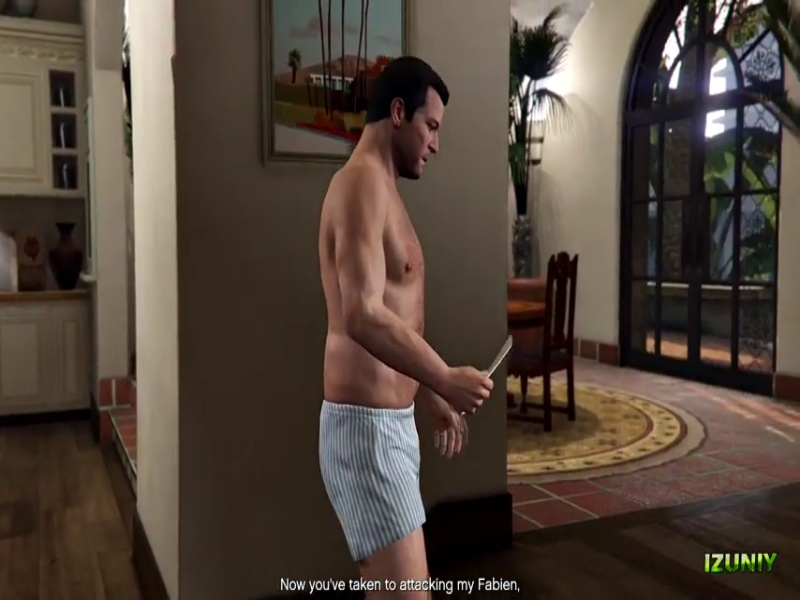human: (308, 50, 490, 580)
